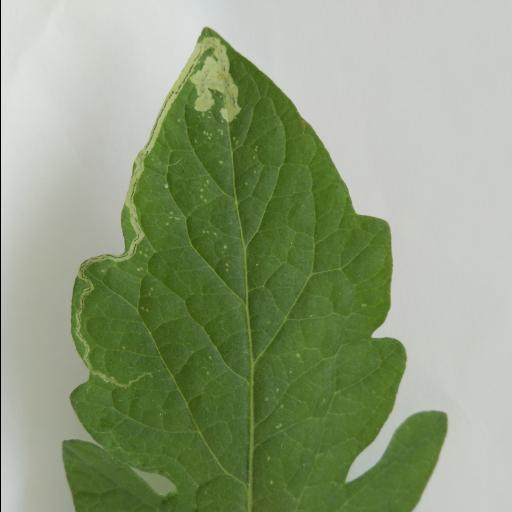disease_tomato: (61, 24, 449, 512)
